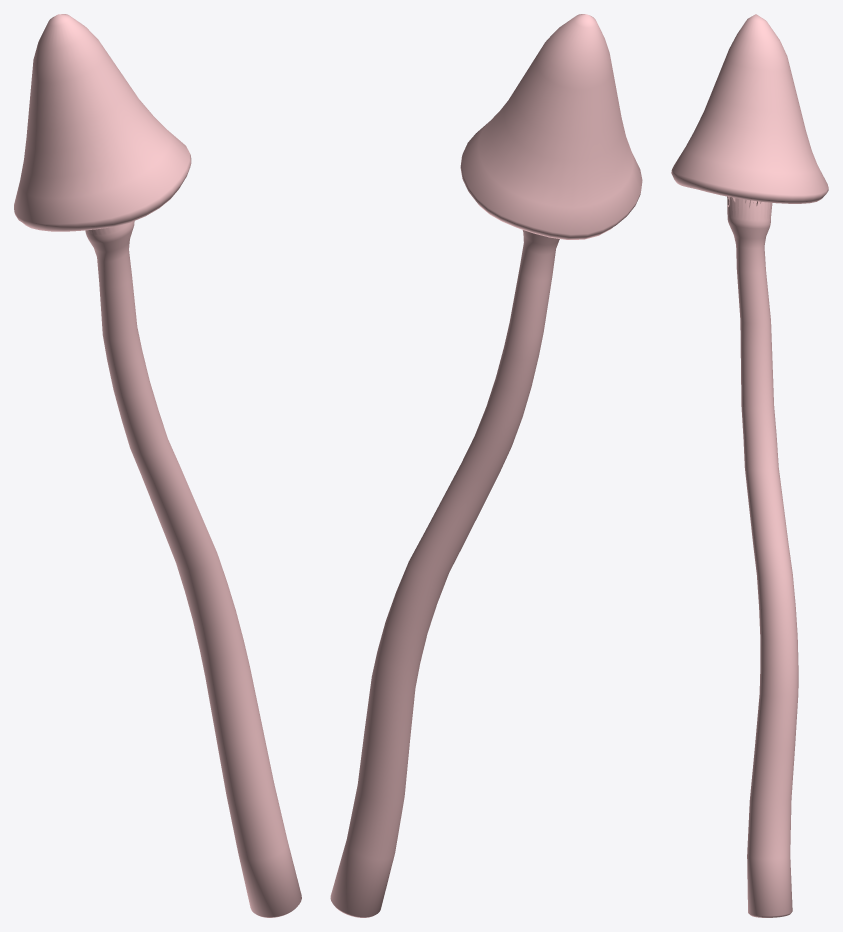
File: Mushroom20.fbx
3 renders of one model, left to right at view 1: azimuth 30°, elevation 25°; view 2: azimuth 150°, elevation 25°; view 3: azimuth 270°, elevation 25°, orthographic. The views are drawn at different scales.
Visible parts, largest first — view 1: shroom_tall.016; view 2: shroom_tall.016; view 3: shroom_tall.016.
Part boxes in pixels (x1,y1,x2,y2): shroom_tall.016: (14, 14, 301, 917); shroom_tall.016: (330, 14, 642, 917); shroom_tall.016: (671, 14, 828, 917).
Size of the model in its own units: 572 by 1828 by 322.
